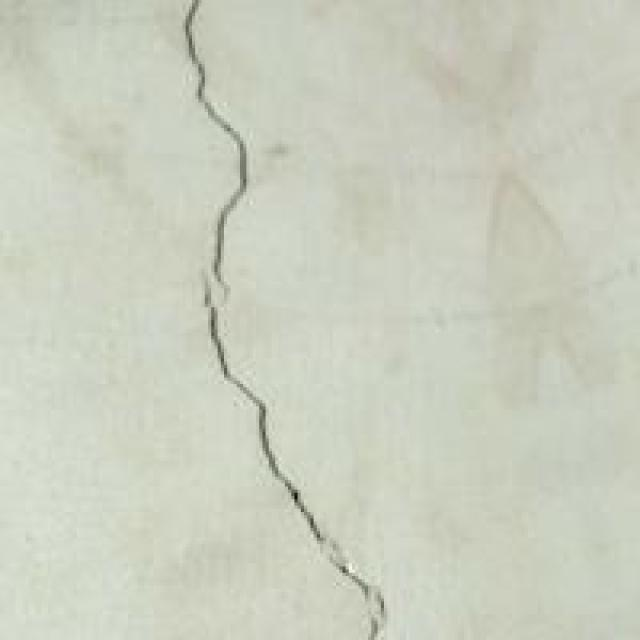Crack: (131, 0, 400, 637)
